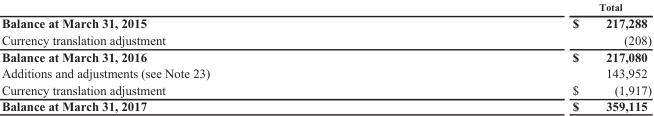table: (0, 1, 650, 113)
table column: (0, 1, 390, 113), (390, 1, 650, 113)
table column header: (0, 1, 650, 14)
table row: (0, 14, 650, 31), (0, 31, 650, 48), (0, 64, 650, 81), (0, 48, 650, 64), (0, 81, 650, 97), (0, 97, 650, 113), (0, 1, 650, 14)
